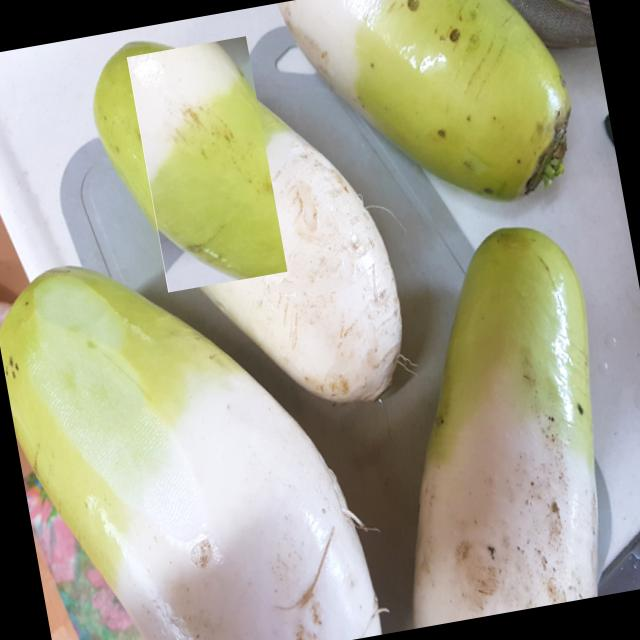radish: (442, 329, 604, 605), (126, 35, 287, 292)
